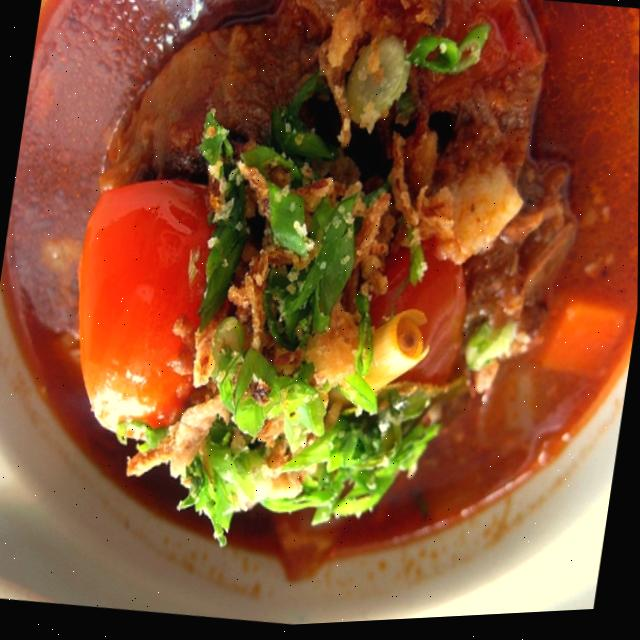汤锅炖物: (15, 0, 640, 597)
